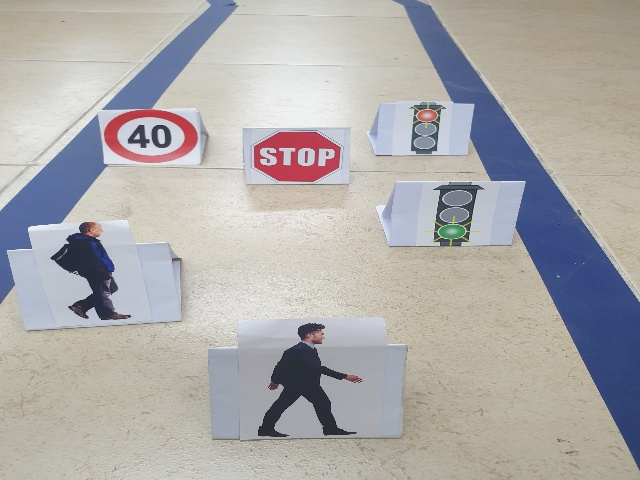Green Light: (428, 180, 480, 247)
Limit 40: (103, 109, 201, 164)
Person: (257, 322, 367, 444), (40, 221, 136, 327)
Red Light: (403, 100, 447, 153)
Stop: (247, 130, 345, 187)
